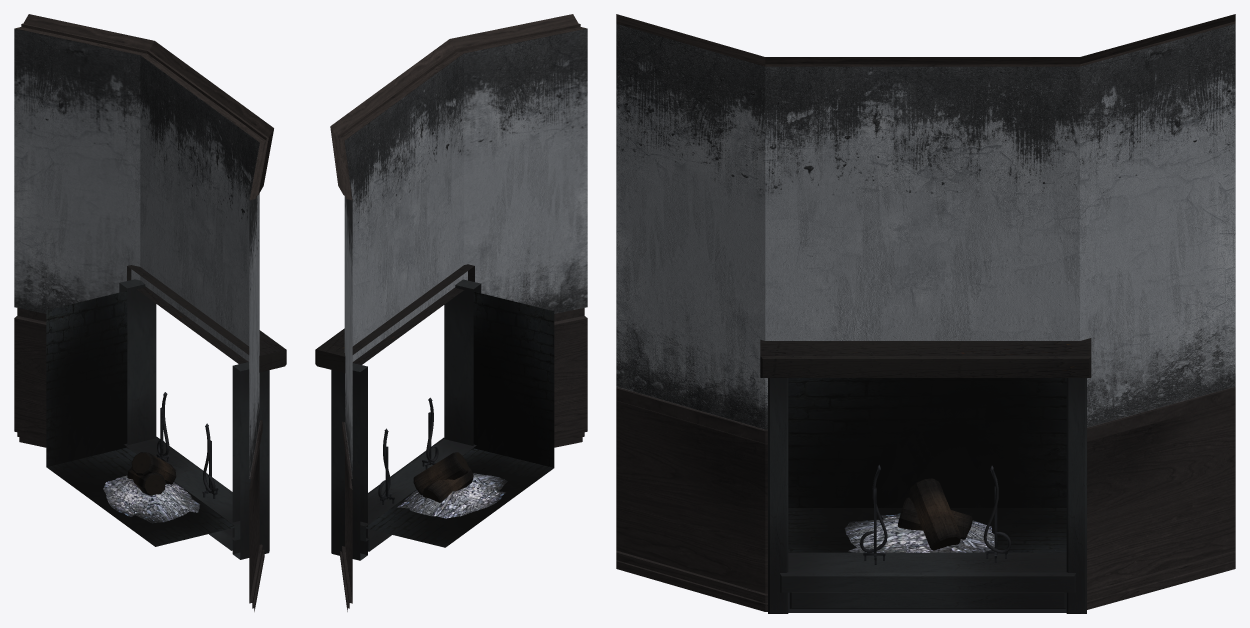
Rendered from FPH_Fireplace.fbx.
The picture shows the model from 3 angles, left to right: view 1: azimuth 30°, elevation 25°; view 2: azimuth 150°, elevation 25°; view 3: azimuth 270°, elevation 25°; orthographic projection. The views are drawn at different scales.
Visible parts, largest first — view 1: FPH_Wall_Diffuse, FHP_Fireplace; view 2: FPH_Wall_Diffuse, FHP_Fireplace; view 3: FPH_Wall_Diffuse, FHP_Fireplace.
Boxes of the visible parts, x1,y1,x2,y2 form: FPH_Wall_Diffuse: (14, 14, 273, 611); FHP_Fireplace: (46, 265, 286, 559); FPH_Wall_Diffuse: (330, 14, 587, 611); FHP_Fireplace: (315, 264, 554, 560); FPH_Wall_Diffuse: (616, 14, 1235, 611); FHP_Fireplace: (760, 338, 1091, 613).
Size of the model in its own units: 4.03 by 13.3 by 13.3.
